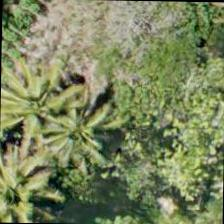Kelapa_Sawit: (0, 60, 85, 152), (0, 148, 57, 223)
